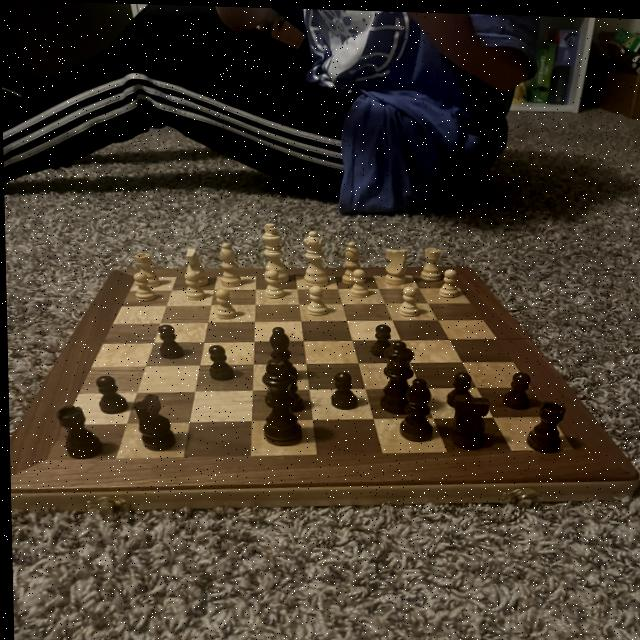bishop: (393, 372, 437, 443), (263, 321, 296, 369)
black-bishop: (255, 356, 303, 446)
black-king: (444, 390, 493, 452), (129, 391, 178, 453)
black-knight: (91, 372, 129, 418), (328, 370, 363, 410), (500, 366, 531, 408), (155, 322, 186, 362), (205, 342, 235, 383), (446, 367, 476, 406), (280, 372, 304, 410), (367, 320, 392, 356)
black-pawn: (374, 335, 417, 413)
black-queen: (52, 403, 103, 463), (521, 394, 572, 454)
black-rook: (216, 236, 245, 288), (337, 237, 366, 284)
white-bishop: (258, 219, 292, 284)
white-king: (178, 245, 211, 287), (381, 242, 411, 286)
white-knight: (129, 269, 160, 303), (304, 280, 331, 315), (395, 283, 423, 316), (434, 265, 462, 298), (180, 268, 206, 301), (212, 286, 236, 320), (261, 266, 285, 300), (347, 265, 371, 299)
white-pawn: (298, 227, 331, 285)
white-queen: (416, 242, 445, 284), (131, 249, 159, 288)
